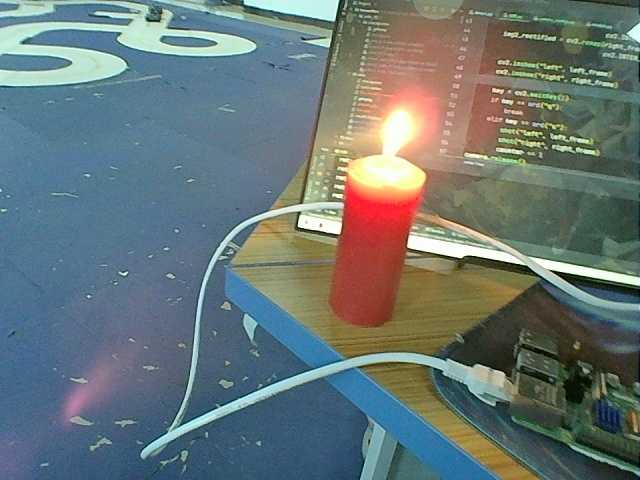candle: (325, 157, 426, 328)
fire: (368, 101, 429, 157)
